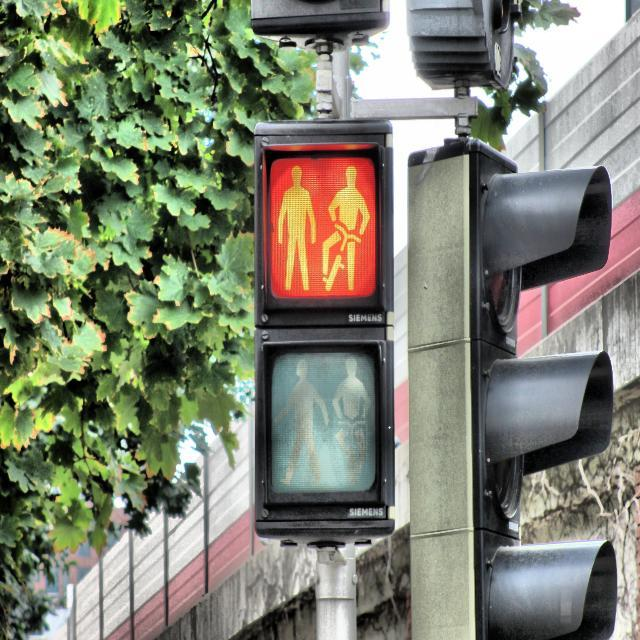red_light: (275, 161, 319, 296)
